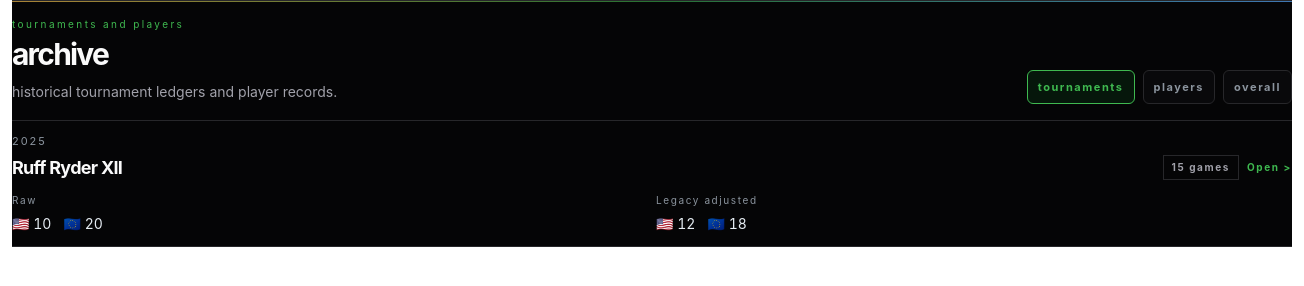
Scenario: ArchiveSection › keeps tournament archive separate from player archive
expect the heading "Ruff Ryder XII" is shown: met, box [12,154,122,182]
expect the text "15 games" is shown: met, box [1162,155,1239,180]
Step 1. Click the button "players" → (1179, 87), box [1142,70,1215,104]
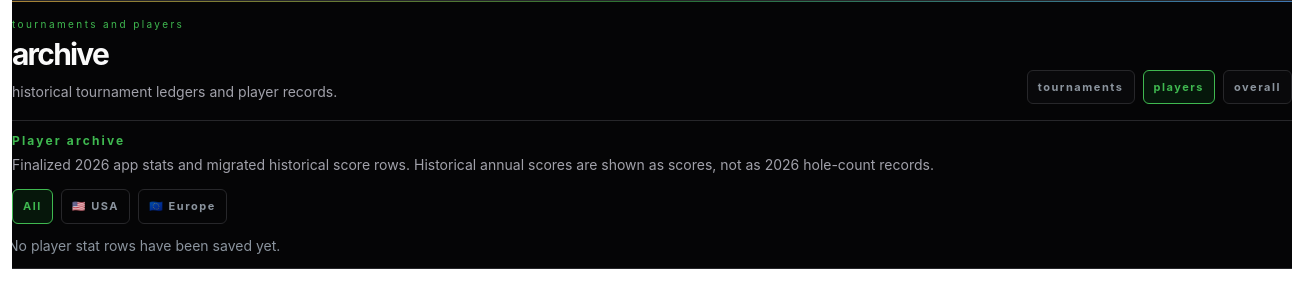
expect the heading "Ruff Ryder XII" is gone: met
